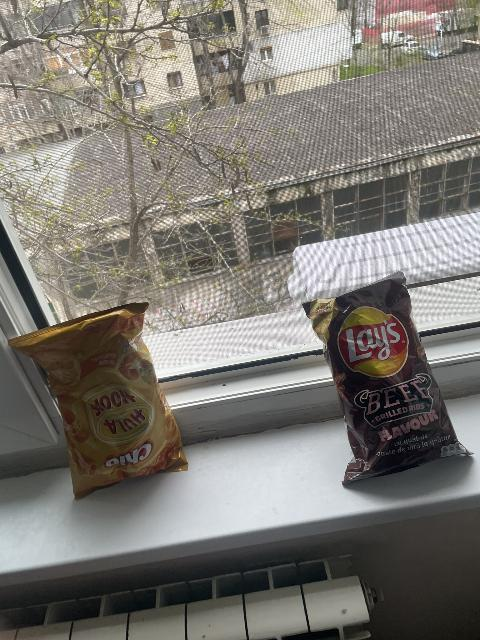Chio Hula Hoops Cheese 70g: (8, 300, 194, 499)
Lays Beef Grilled Ribs 125g: (299, 272, 472, 486)
